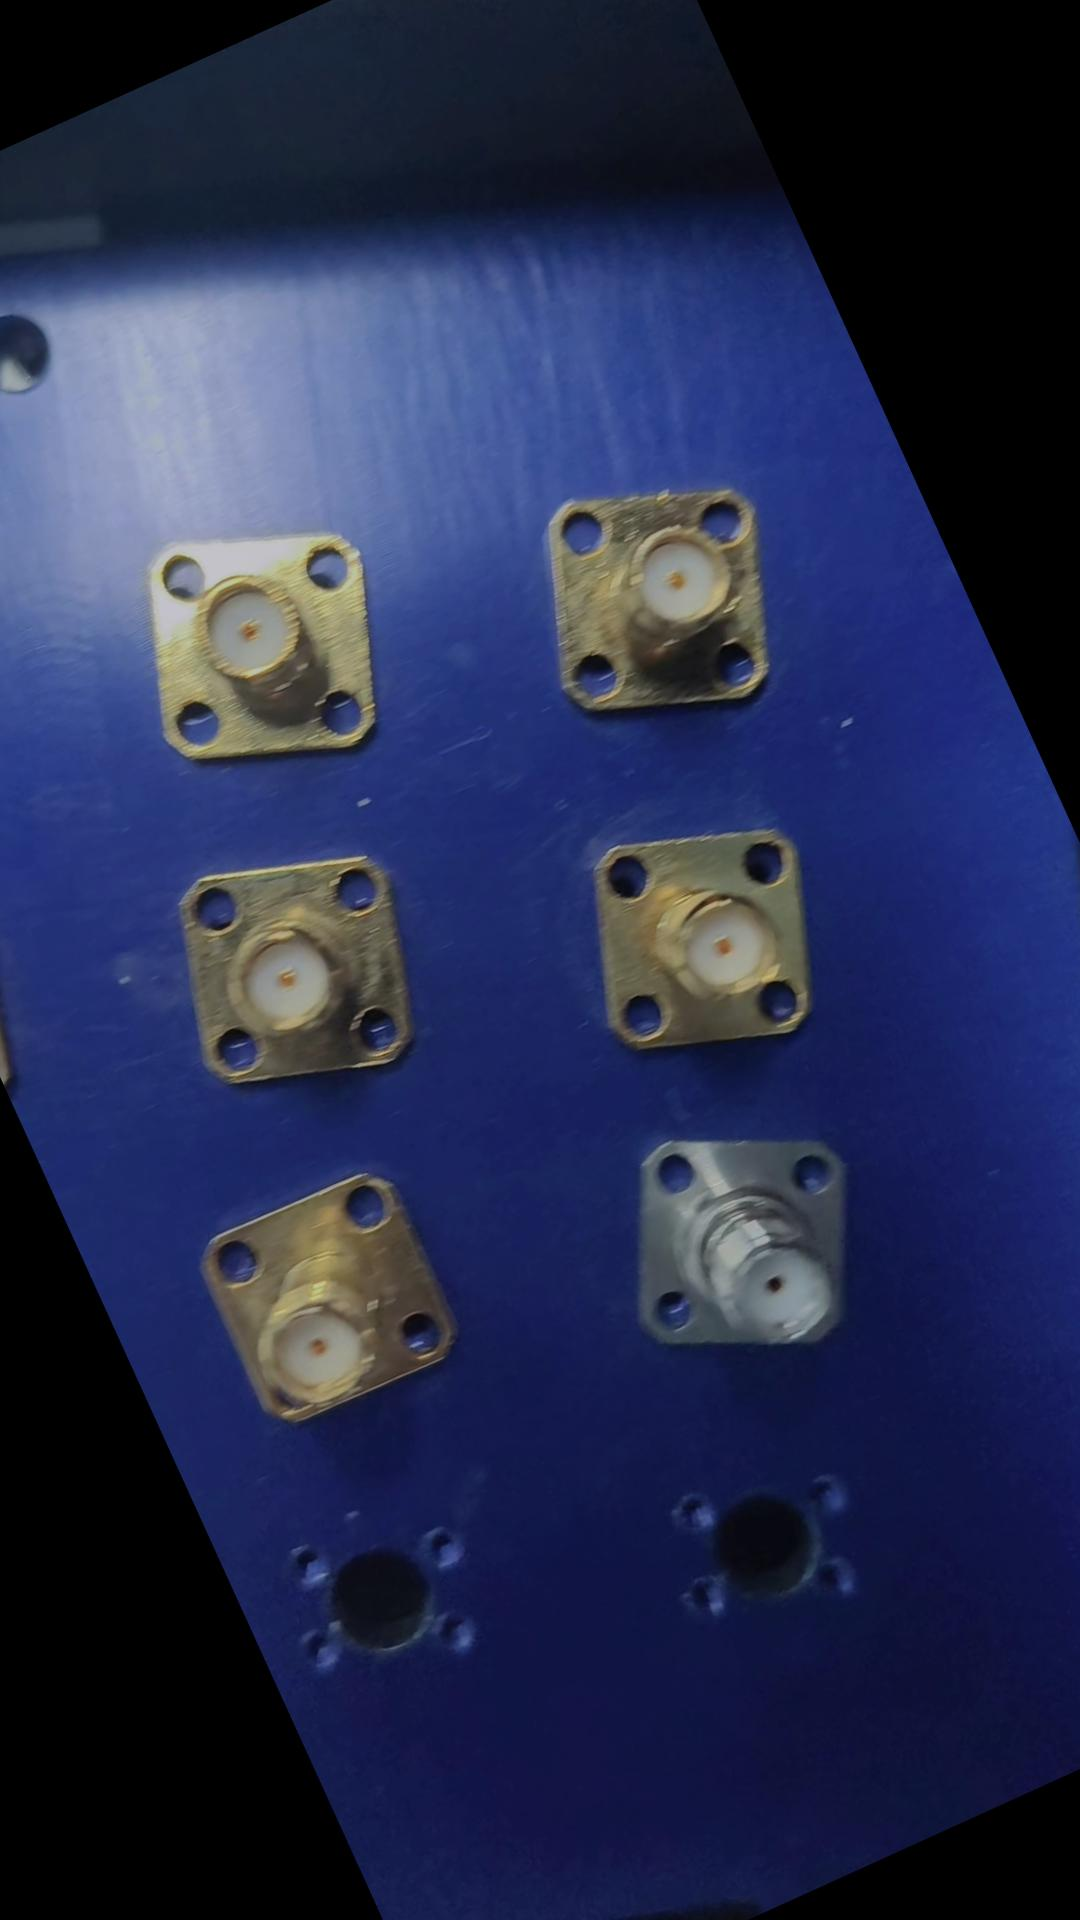SMA: (86, 469, 436, 819), (489, 425, 829, 765), (570, 1080, 906, 1414), (131, 808, 458, 1139), (534, 781, 858, 1105), (178, 1153, 472, 1447)
